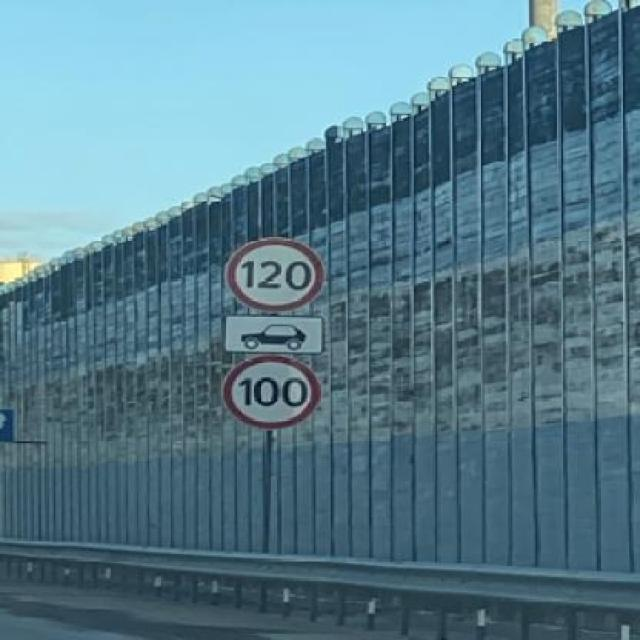forb_speed_over_100: (225, 353, 317, 427)
forb_speed_over_120: (232, 238, 319, 313)
